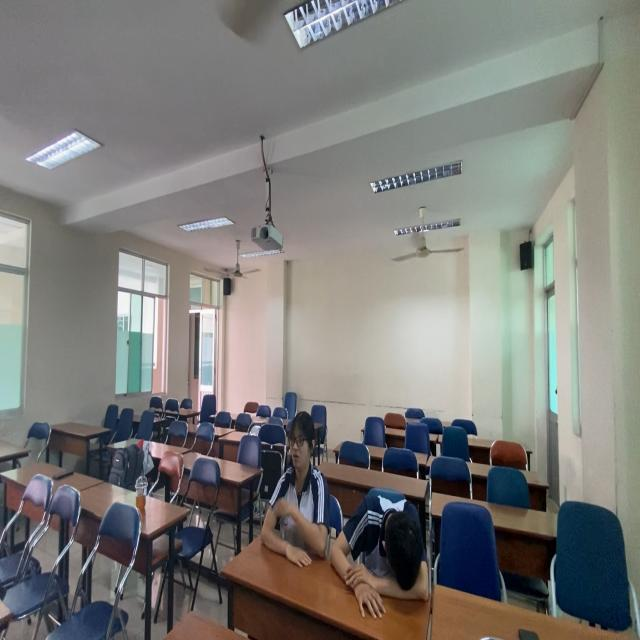sleep: (328, 480, 443, 627)
